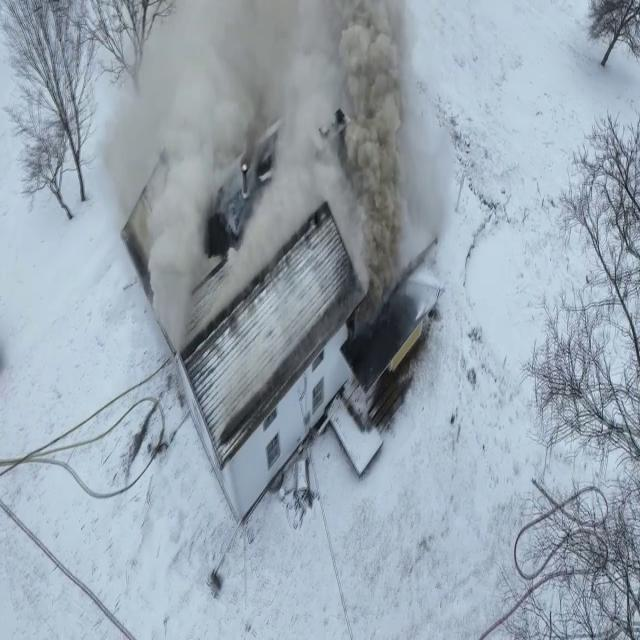Smoke: (89, 0, 473, 300)
